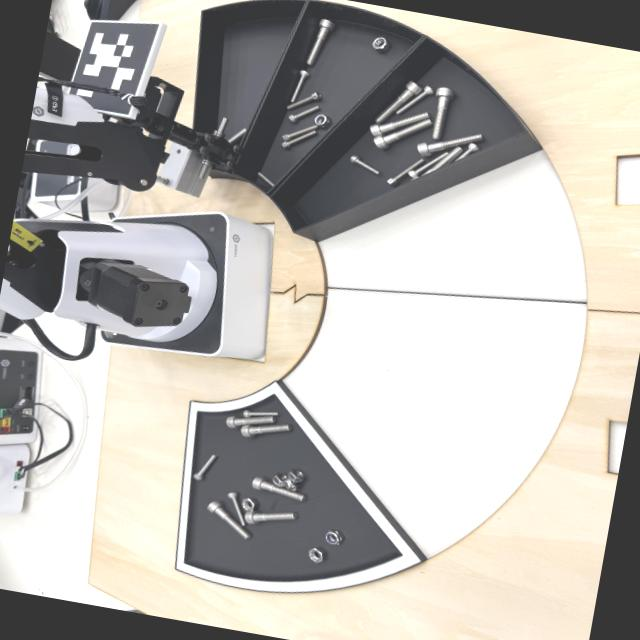big: (366, 74, 423, 123), (371, 111, 435, 153), (413, 127, 486, 157), (206, 497, 252, 544), (298, 11, 335, 68), (251, 475, 310, 508), (366, 108, 432, 136), (428, 87, 455, 140), (243, 504, 300, 526), (238, 423, 294, 437), (225, 416, 278, 429)
board: (164, 349, 431, 621)
box: (263, 35, 544, 317)
circle: (316, 524, 350, 551), (303, 544, 331, 567), (308, 108, 337, 130), (367, 33, 395, 55), (237, 494, 258, 514), (286, 465, 306, 482), (270, 471, 290, 488)
small: (400, 145, 449, 182), (382, 152, 425, 188), (189, 447, 221, 483), (343, 151, 383, 178), (284, 66, 310, 105), (286, 98, 322, 125), (277, 129, 319, 152), (278, 119, 317, 143), (283, 88, 322, 112), (227, 490, 248, 530), (240, 407, 279, 421)
